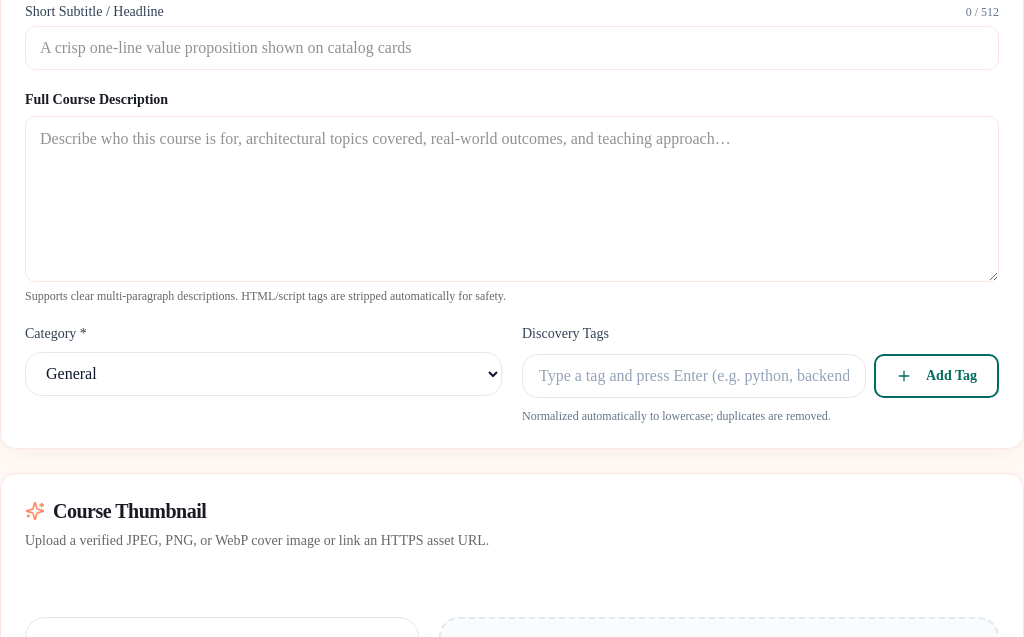
Test: Phase 1: CourseMetadataForm Component › allows selecting category, custom category, difficulty level, language, and tags
(page scrolled)
Select "System Design" in the dropdown labelled "Category *": (264,374) x1=25 y1=352 x2=502 y2=396
Select "+ Custom Category…" in the dropdown labelled "Category *": (264,374) x1=25 y1=352 x2=502 y2=396
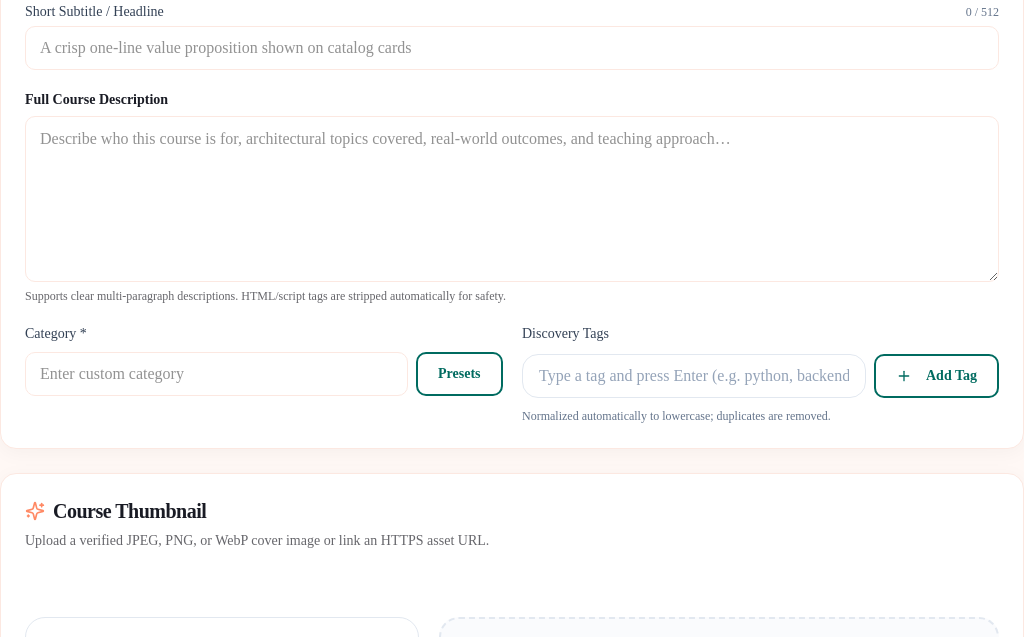
In the field with placeholder "Enter custom category": (216,374) x1=25 y1=352 x2=408 y2=396, type "Compilers & Runtimes"
(page scrolled)
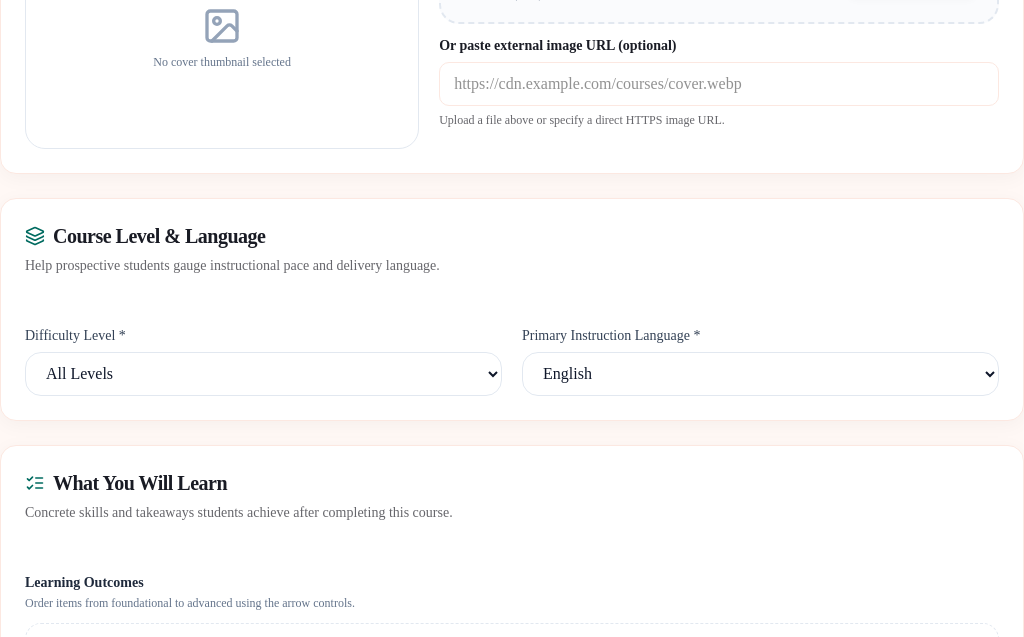
Select "Advanced" in the dropdown labelled "Difficulty Level *": (264,374) x1=25 y1=352 x2=502 y2=396
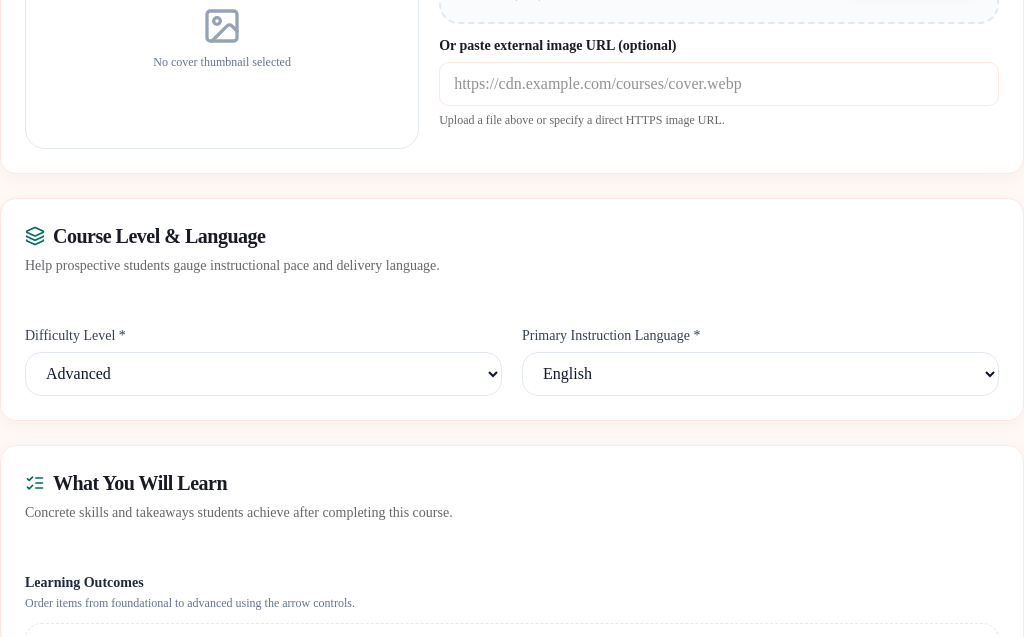
Select "Hinglish" in the dropdown labelled "Primary Instruction Language *": (760,374) x1=522 y1=352 x2=999 y2=396
(page scrolled)
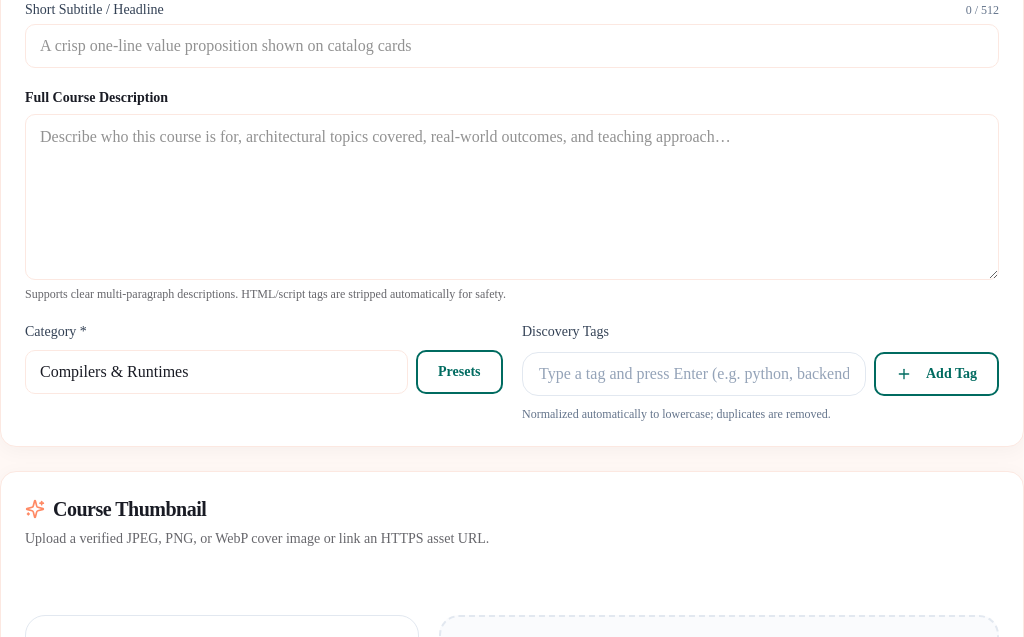
In the field labelled "Discovery Tags": (694,374) x1=522 y1=352 x2=866 y2=396, type "Rust"
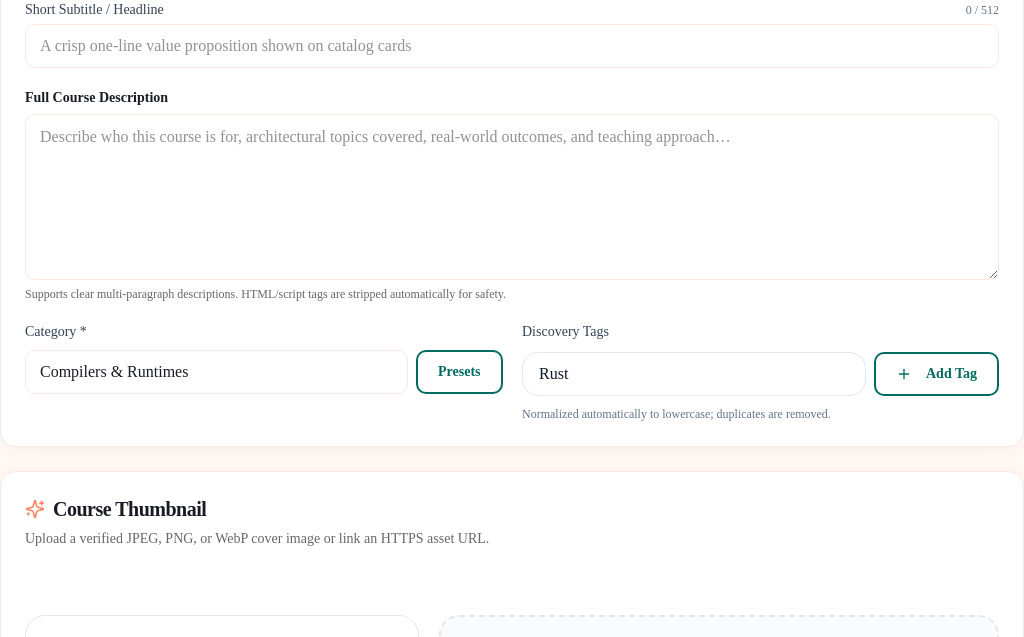
Press Enter in the field labelled "Discovery Tags", box x1=522 y1=352 x2=866 y2=396
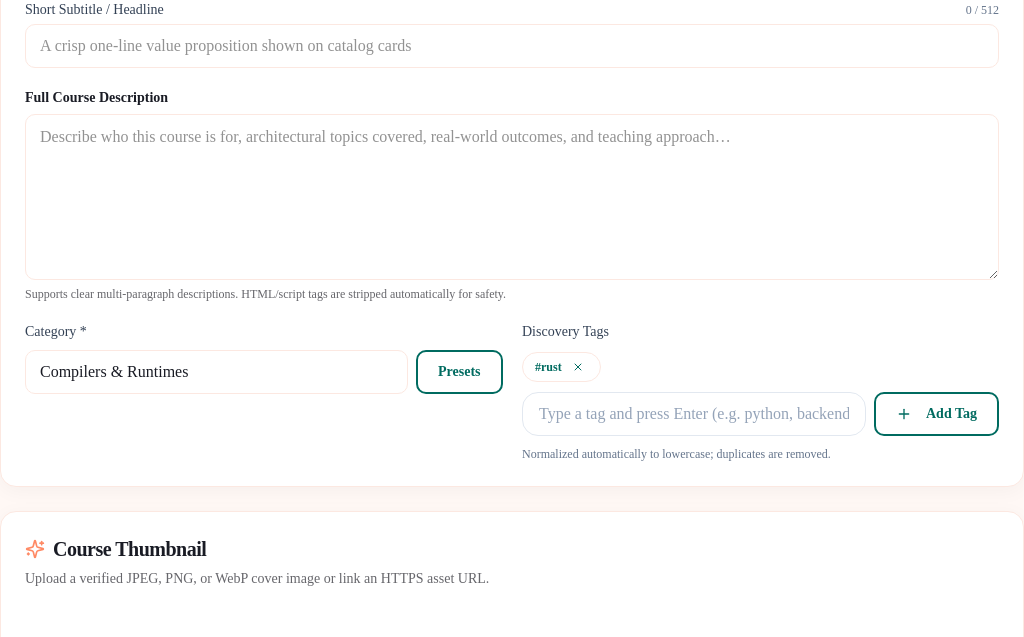
expect the text "#rust" is shown: met, box x1=535 y1=359 x2=562 y2=375
